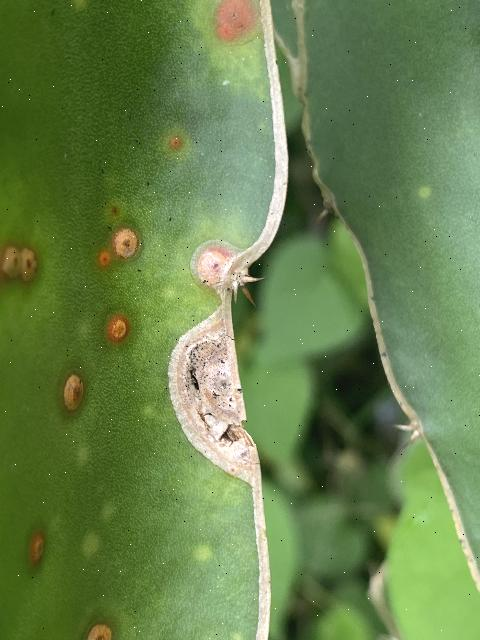stemcanker: (160, 246, 262, 505), (212, 1, 262, 42), (1, 243, 43, 285), (107, 226, 145, 259), (62, 371, 88, 414), (101, 312, 130, 347)
